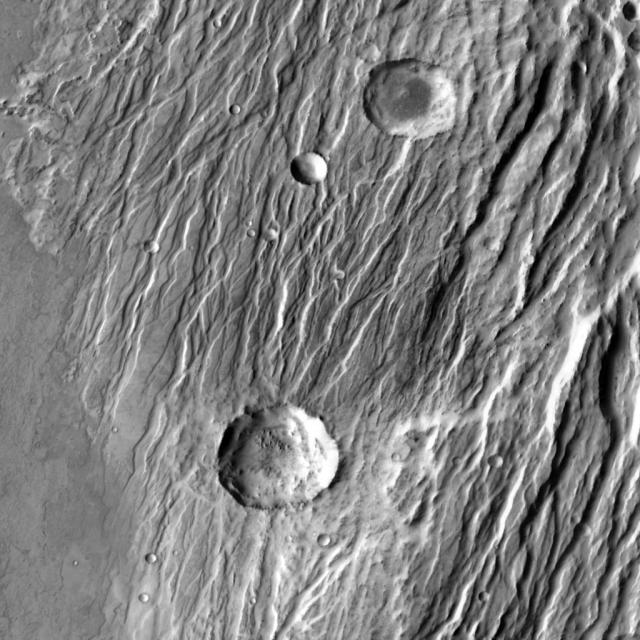crater: (223, 406, 340, 513), (368, 59, 462, 144), (295, 154, 331, 188), (361, 43, 385, 65), (492, 457, 508, 472), (488, 238, 504, 253), (267, 232, 282, 246), (322, 537, 334, 549), (232, 106, 245, 117), (482, 594, 494, 605), (150, 556, 161, 566), (338, 273, 349, 283), (217, 21, 227, 31), (250, 231, 260, 241), (143, 596, 153, 606), (395, 456, 403, 464)
